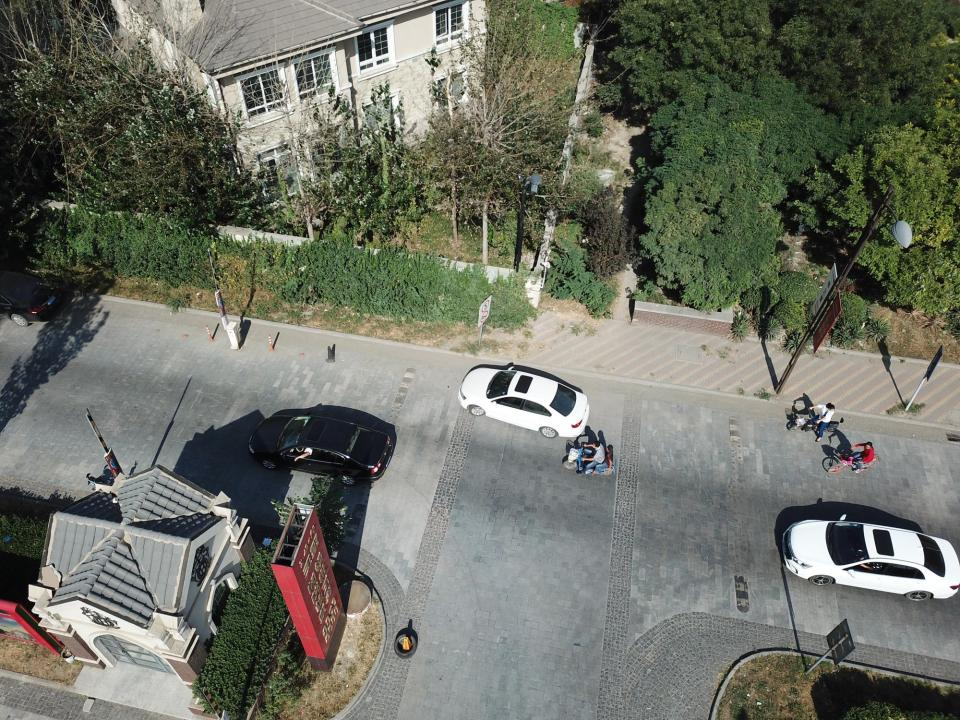car: (782, 513, 960, 601), (249, 412, 393, 486), (458, 366, 589, 439)
